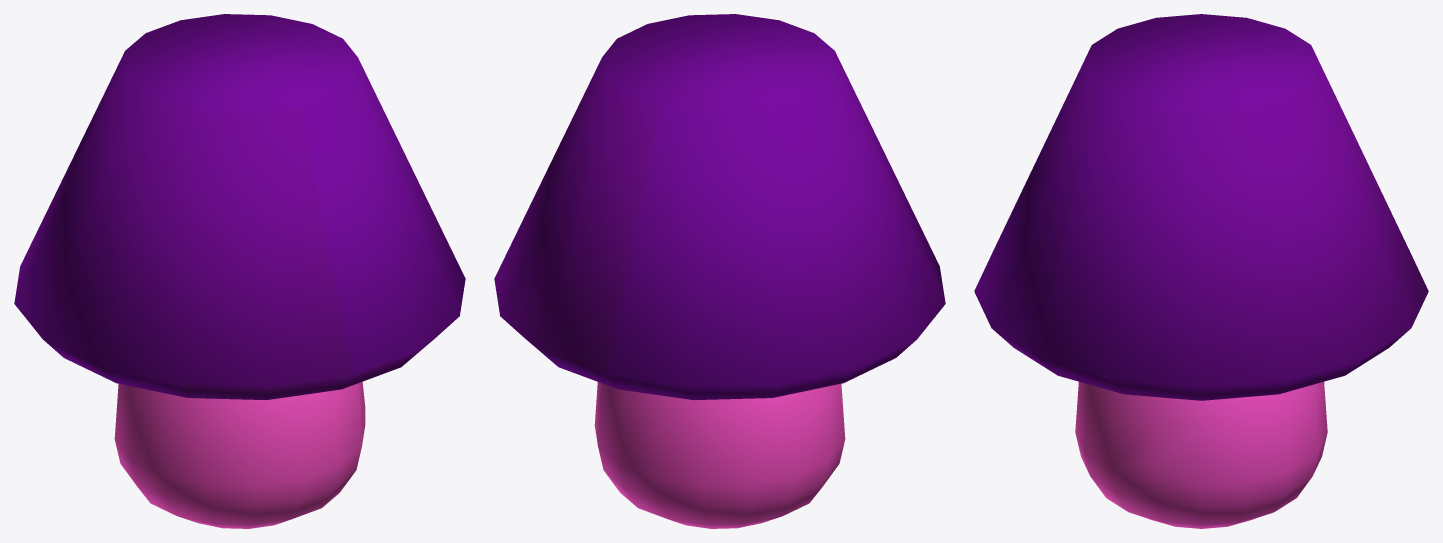
The model's file is lampshade.glb.
3 views of the same model, side by side, from view 1: azimuth 30°, elevation 25°; view 2: azimuth 150°, elevation 25°; view 3: azimuth 270°, elevation 25° (orthographic).
Size of the model in its own units: 0.4376 by 0.47 by 0.4376.
Materials: 1 (1 with a texture image).
